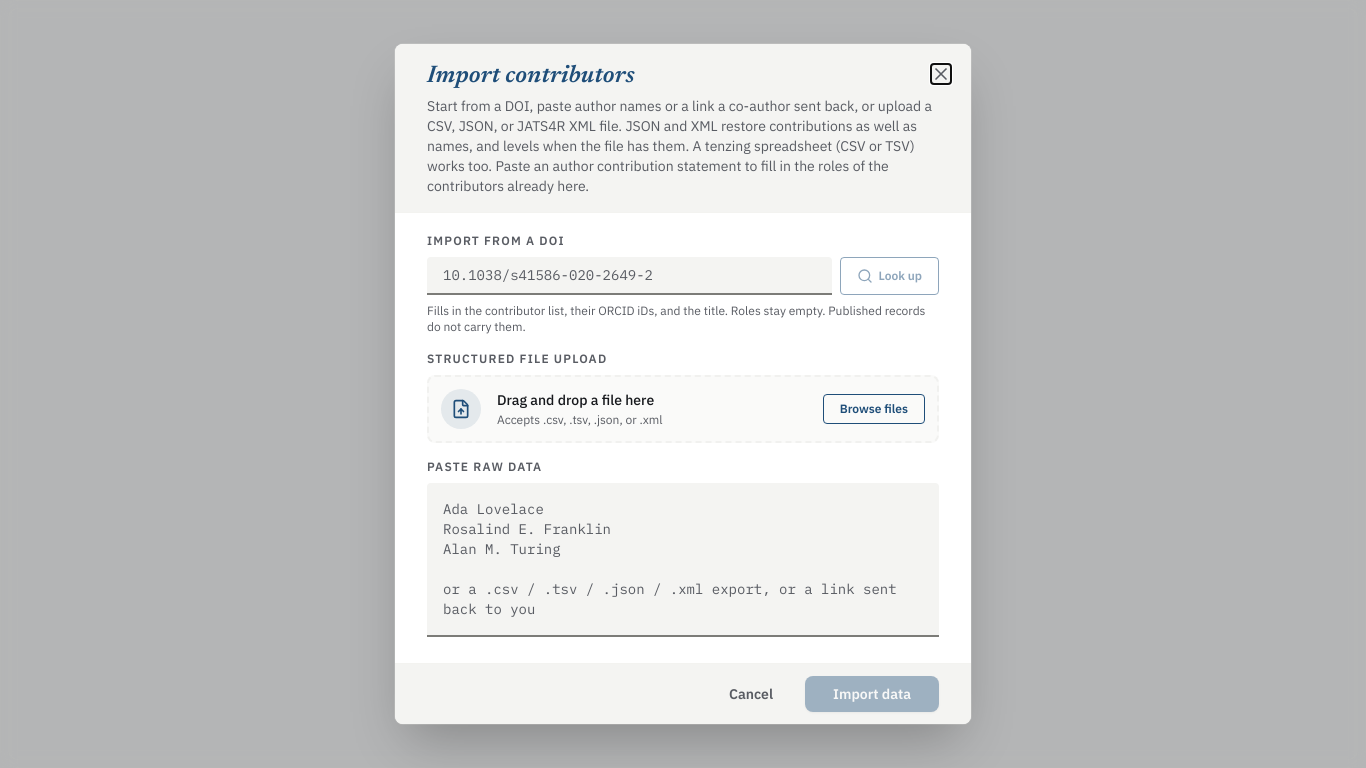
Scenario: accessibility and drops › ties the DOI hint and error to the DOI input
The width and height of the screenshot is (1366, 768).
Type "10.1234/abcd" into the field labelled "Import from a DOI" at (629, 276), box 427,257 -> 832,295
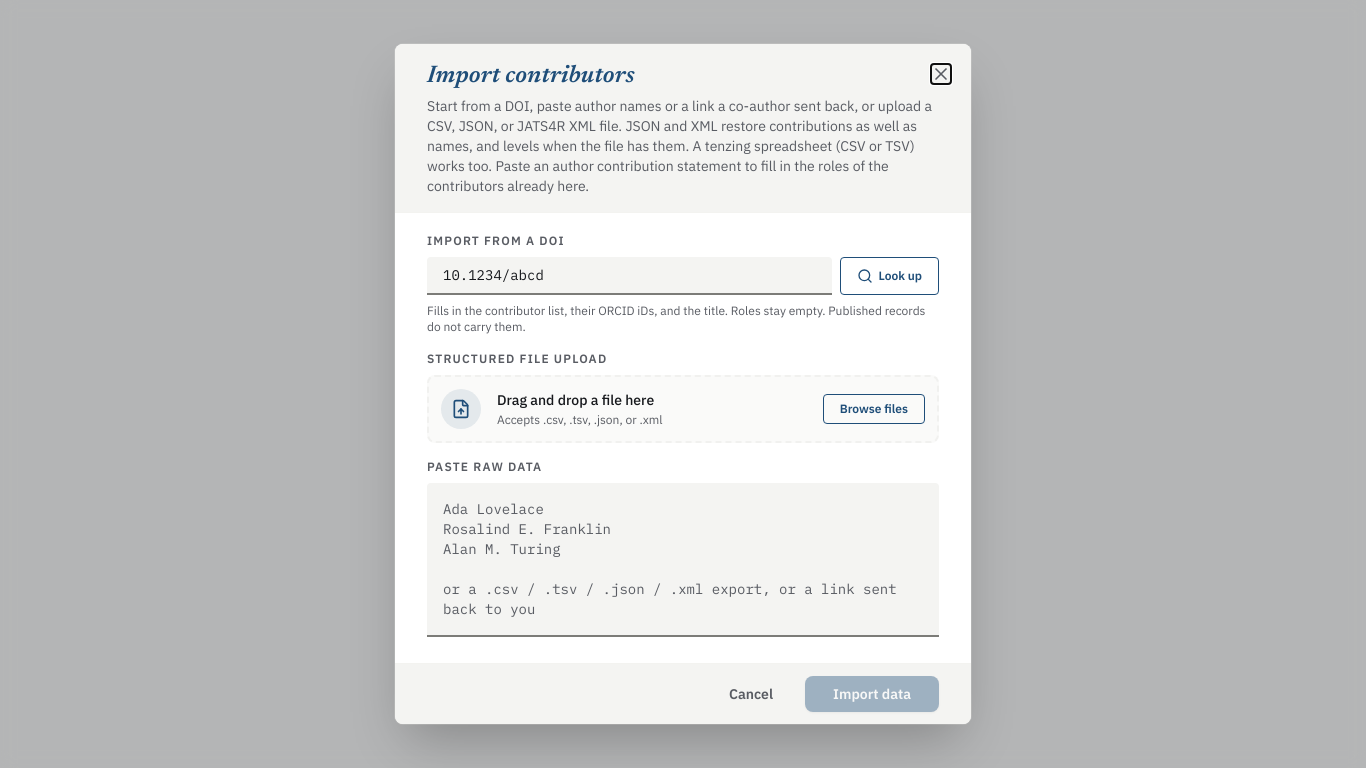
Replace the text in the field labelled "Import from a DOI" with "nope" at (629, 276), box 427,257 -> 832,295
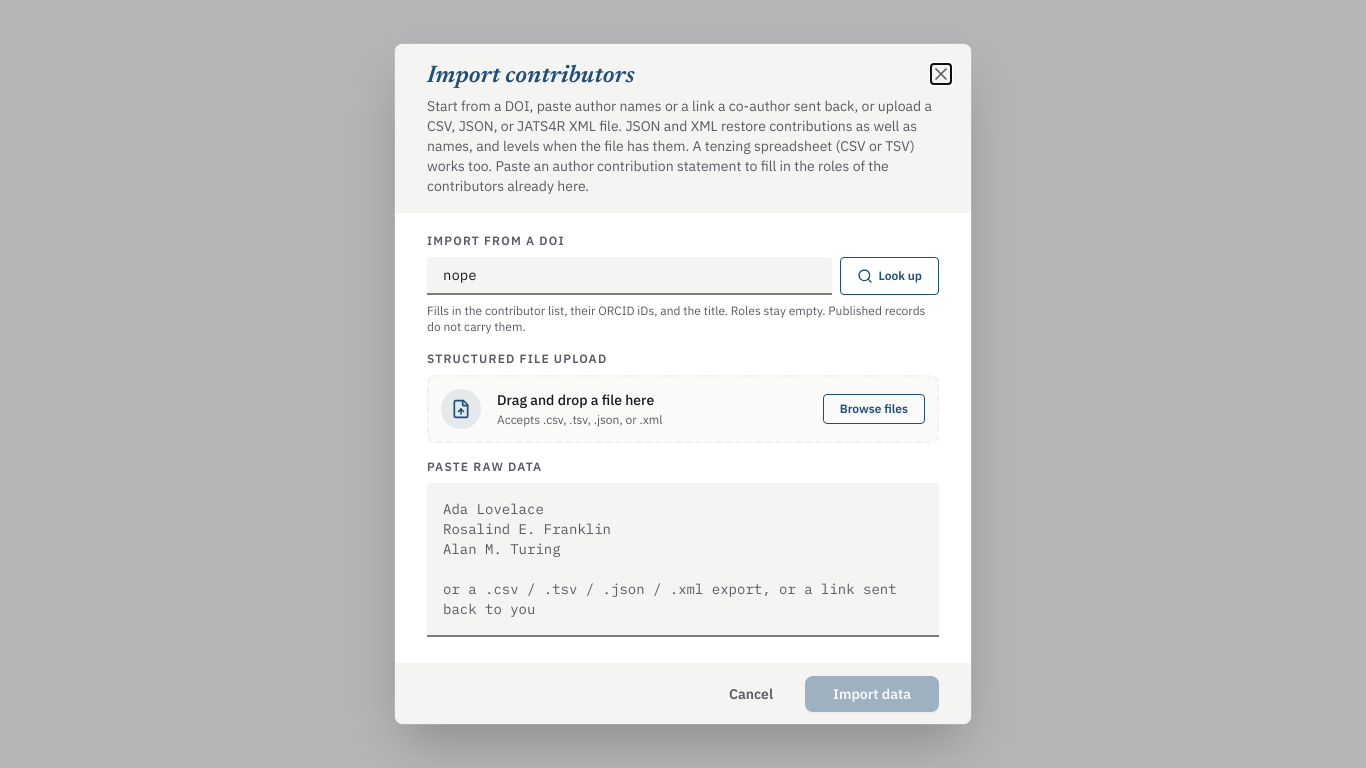
Click the button "Look up" at (889, 276), box 840,257 -> 939,295
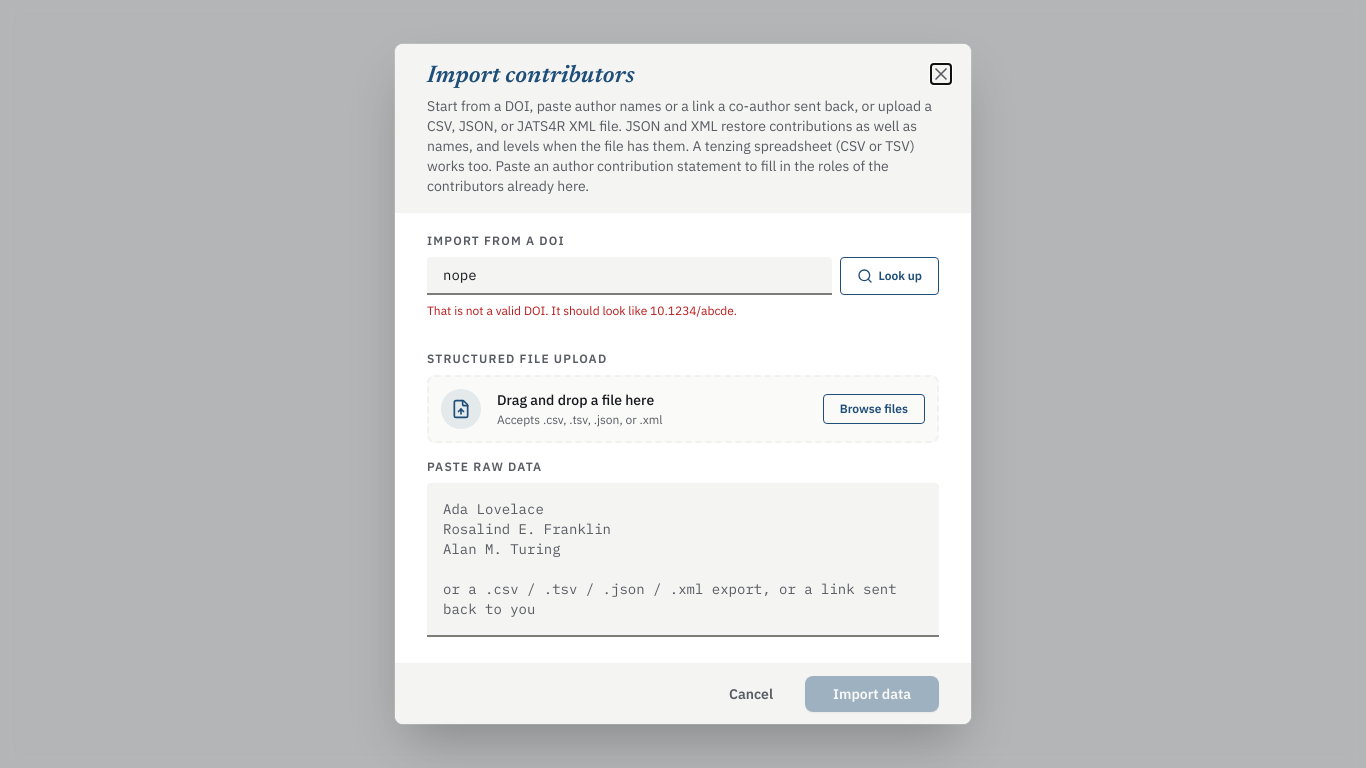
Now the text "That is not a valid DOI. It should look like 10.1234/abcde." is shown, box 427,303 -> 737,318
